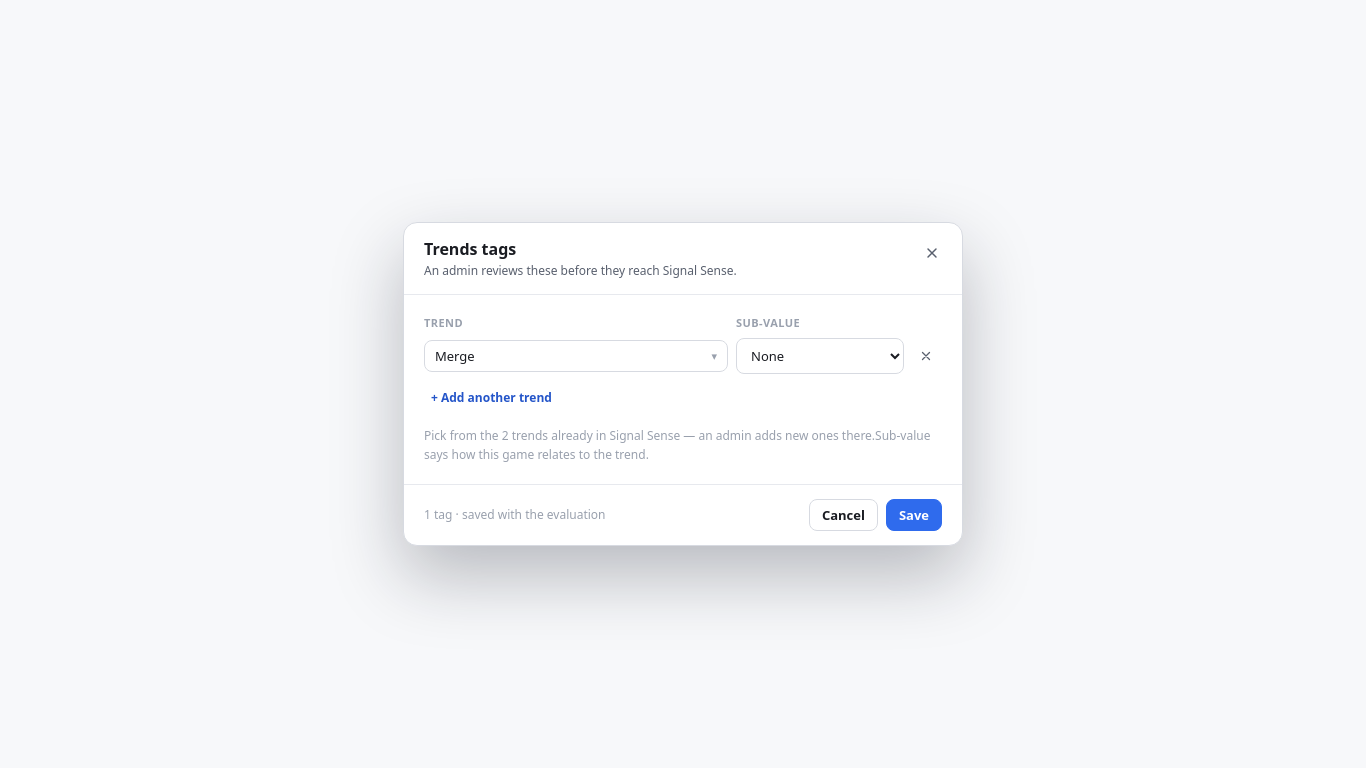
Scenario: TrendTagsDialog › removes a row with the labelled X
Click the button named "Remove this trend": (926, 356) 912,342 -> 940,370
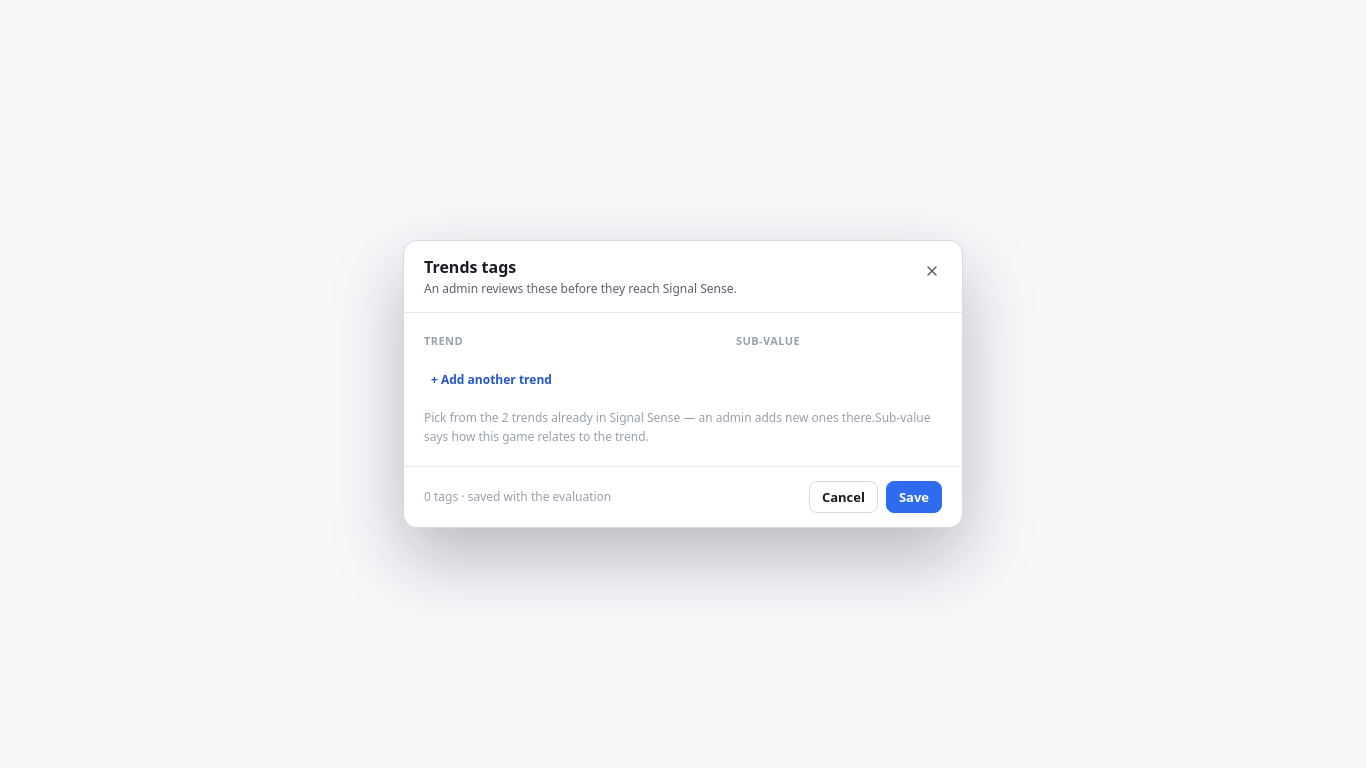
Result: the button "Merge" is gone
